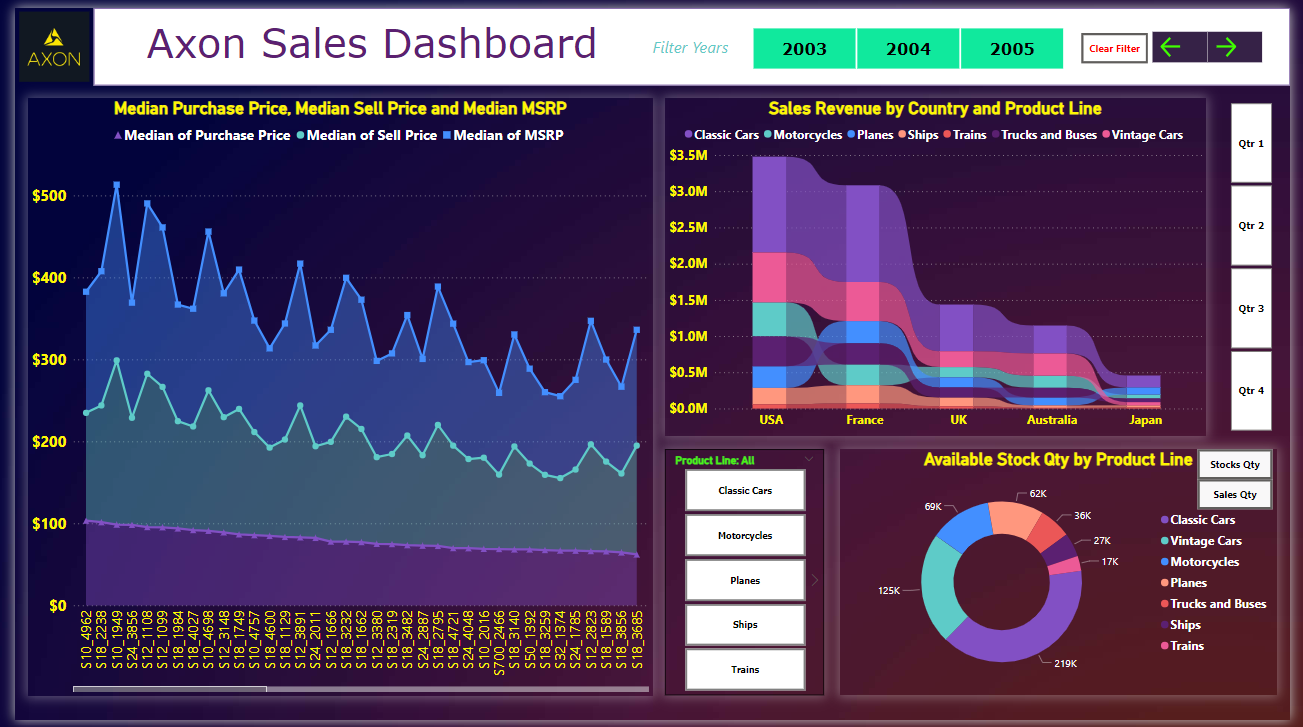

Layout of this report page (visuals, bound fields, positions):
{"tool":"powerbi","page":{"name":"Products","canvas":[1700,950],"ordinal":2},"visuals":[{"type":"slicer","title":"Quarter","fields":{"Values":["DATES.Date.Variation.Date Hierarchy.Quarter"]},"box":[1594.5,119.3,105,450.3],"z":0},{"type":"ribbonChart","title":"Sales Revenue by Country and Product Line","fields":{"Category":["classicmodels offices.country"],"Series":["classicmodels products.productLine"],"Y":["Base_Measures.billAmount"]},"box":[867.3,119.3,720.9,450.3],"z":1000},{"type":"donutChart","title":"Available Stock Qty by Product Line","fields":{"Category":["classicmodels productlines.productLine"],"Y":["Base_Measures.Stock_Qty"]},"box":[1099.6,588.8,582.4,327.8],"z":2000},{"type":"image","box":[0,0,104.8,103.2],"z":3000},{"type":"stackedAreaChart","title":"Median Purchase Price, Median Sell Price and Median MSRP","fields":{"Category":["classicmodels products.productCode"],"Y":["Median(classicmodels products.buyPrice)","Median(classicmodels orderdetails.sellPrice)","Median(classicmodels products.MSRP)"]},"box":[15.9,119.3,833.8,797.2],"z":4000},{"type":"slicer","fields":{"Values":["classicmodels products.productLine"]},"box":[867.3,588.8,211.6,327.8],"z":5000},{"type":"shape","box":[104.8,0,1595.2,103.2],"z":6000},{"type":"textbox","box":[114.5,8.1,722.6,79],"z":7000},{"type":"slicer","title":"Year","fields":{"Values":["DATES.Date.Variation.Date Hierarchy.Year"]},"box":[958,19.5,463.6,68.1],"z":8000},{"type":"actionButton","box":[1590.1,32.4,72.9,40.5],"z":9000},{"type":"actionButton","box":[1421.5,34,89.1,40.5],"z":10000},{"type":"textbox","box":[837,31.8,127.3,44.6],"z":11000},{"type":"actionButton","box":[1517.2,32.4,72.9,40.5],"z":12000},{"type":"actionButton","box":[1576.7,588.3,100,40],"z":14000},{"type":"actionButton","box":[1576.7,628.3,100,40],"z":15000}]}

Visuals, with their boxes in screenshot pixels (x1, y1, x2, y2), scaled from the page's 1700x950 canvas onto the 1303x727 screenshot:
"Quarter" slicer: BBox(1222, 91, 1302, 436)
"Sales Revenue by Country and Product Line" ribbonChart: BBox(665, 91, 1217, 436)
"Available Stock Qty by Product Line" donutChart: BBox(843, 451, 1289, 701)
image: BBox(0, 0, 80, 79)
"Median Purchase Price, Median Sell Price and Median MSRP" stackedAreaChart: BBox(12, 91, 651, 701)
slicer - classicmodels products.productLine: BBox(665, 451, 827, 701)
shape: BBox(80, 0, 1302, 79)
textbox: BBox(88, 6, 642, 67)
"Year" slicer: BBox(734, 15, 1090, 67)
actionButton: BBox(1219, 25, 1275, 56)
actionButton: BBox(1090, 26, 1158, 57)
textbox: BBox(642, 24, 739, 58)
actionButton: BBox(1163, 25, 1219, 56)
actionButton: BBox(1208, 450, 1285, 481)
actionButton: BBox(1208, 481, 1285, 511)
